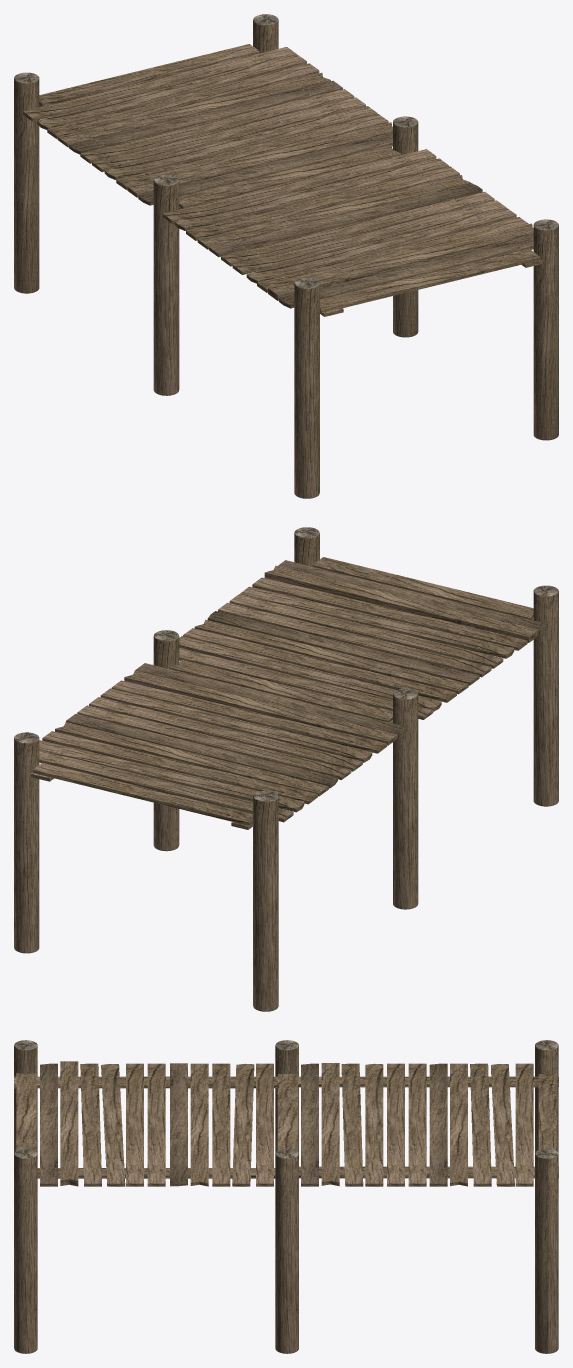
The model's file is bridge_dock.fbx.fbx.
3 views of the same model, one above another, from view 1: azimuth 30°, elevation 25°; view 2: azimuth 150°, elevation 25°; view 3: azimuth 270°, elevation 25° (orthographic). The views are drawn at different scales.
Parts seen in each view (by area): view 1: Cylinder.001, Cylinder.008, Cylinder.009, Cylinder.006, Cube.013, Cube.007, Cube.003, Cube.021, Cube.009, Cube.010, Cube.011, Cube.004 (+19 smaller); view 2: Cylinder.006, Cylinder.007, Cylinder.001, Cylinder.008, Cube.013, Cube.001, Cube.014, Cube.002, Cube.016, Cube.008, Cube.022, Cube.021 (+19 smaller); view 3: Cylinder.009, Cylinder.007, Cylinder, Cube.013, Cube.009, Cube.017, Cube.006, Cube.019, Cube.023, Cube.003, Cube.008, Cube.001 (+23 smaller).
Boxes of the visible parts, box(x1,y1,x2,y2) form: Cylinder.001: box(153, 174, 179, 395); Cylinder.008: box(294, 277, 319, 498); Cylinder.009: box(533, 219, 558, 440); Cylinder.006: box(14, 72, 39, 293); Cube.013: box(268, 223, 533, 300); Cube.007: box(209, 183, 482, 257); Cube.003: box(104, 106, 377, 179); Cube.021: box(47, 63, 319, 139); Cube.009: box(186, 166, 459, 240); Cube.010: box(174, 158, 448, 230); Cube.011: box(162, 149, 436, 223); Cube.004: box(92, 97, 365, 171); Cylinder.006: box(253, 790, 278, 1011); Cylinder.007: box(14, 732, 39, 953); Cylinder.001: box(393, 688, 418, 909); Cylinder.008: box(533, 585, 558, 806); Cube.013: box(264, 565, 538, 642); Cube.001: box(124, 670, 397, 745); Cube.014: box(252, 577, 527, 650); Cube.002: box(111, 680, 387, 753); Cube.016: box(229, 594, 503, 668); Cube.008: box(194, 619, 468, 694); Cube.022: box(55, 722, 328, 796); Cube.021: box(42, 731, 317, 804); Cylinder.009: box(14, 1148, 37, 1353); Cylinder.007: box(535, 1148, 558, 1353); Cylinder: box(275, 1148, 298, 1353); Cube.013: box(60, 1061, 78, 1186); Cube.009: box(212, 1063, 230, 1186); Cube.017: box(408, 1063, 426, 1186); Cube.006: box(147, 1063, 165, 1186); Cube.019: box(515, 1063, 533, 1186); Cube.023: box(429, 1063, 447, 1186); Cube.003: box(365, 1063, 383, 1186); Cube.008: box(190, 1063, 208, 1186); Cube.001: box(321, 1063, 339, 1186).
Size of the model in its own units: 9.06 by 6.91 by 17.41.
7 materials, 7 textured.
